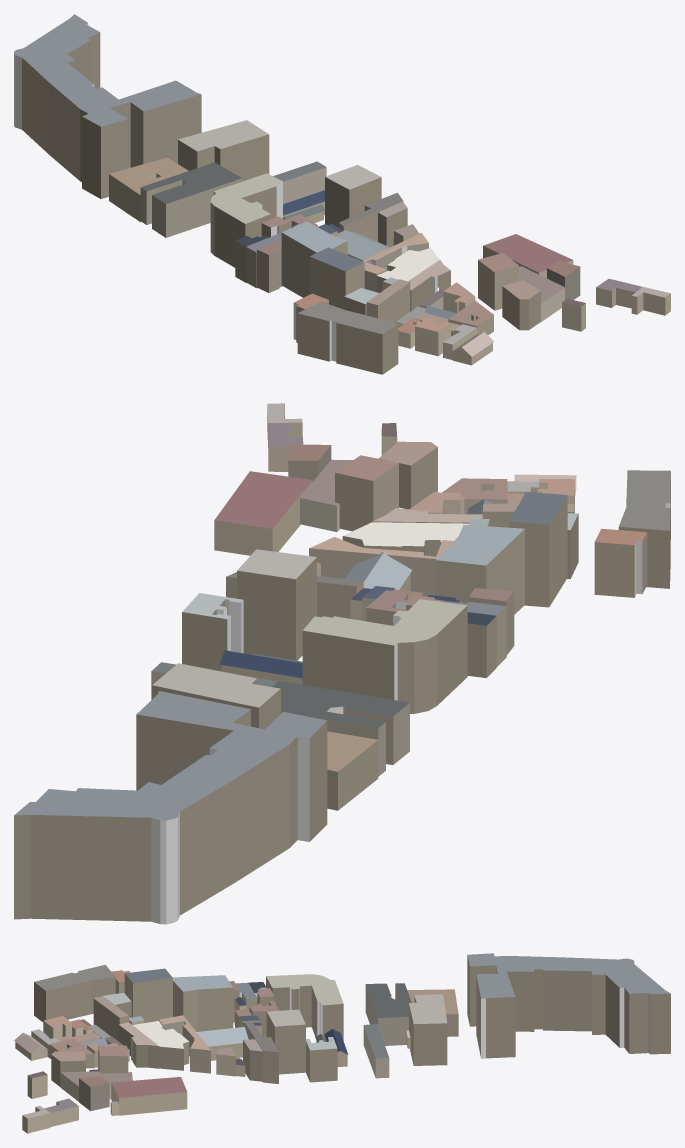
The picture shows the model from 3 angles, top to bottom: view 1: azimuth 30°, elevation 25°; view 2: azimuth 150°, elevation 25°; view 3: azimuth 270°, elevation 25°; orthographic projection. The views are drawn at different scales.
Visible parts, largest first — view 1: tuile; view 2: tuile; view 3: tuile.
Part boxes in pixels (left/top/right/bottom): tuile: left=14, top=14, right=670, bottom=374; tuile: left=14, top=403, right=670, bottom=924; tuile: left=14, top=953, right=670, bottom=1133.
Bounding box in the file's own units: 124 × 26.2 × 259.
